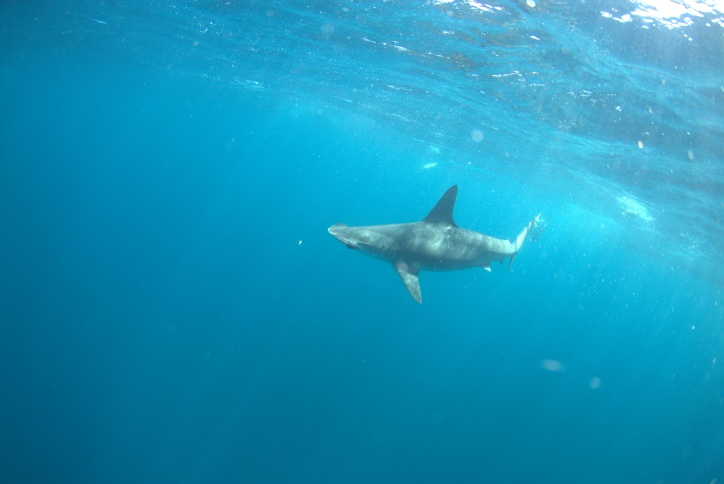Hammer: (298, 177, 577, 326)
